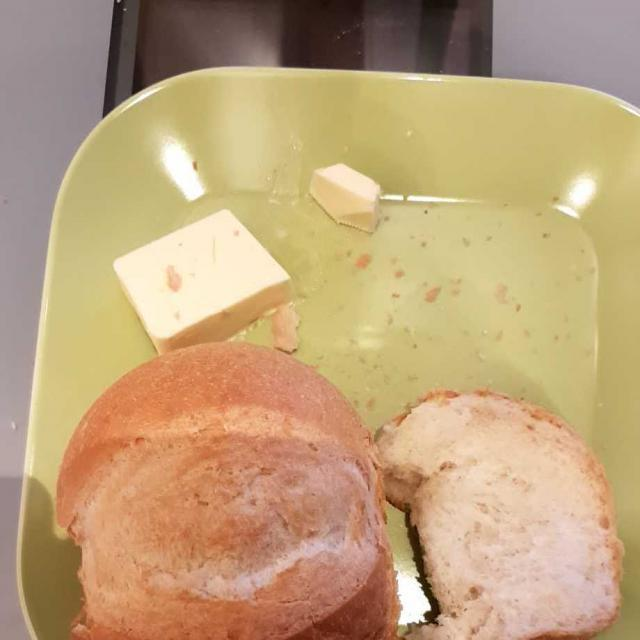bread: (41, 352, 633, 636)
butter: (115, 211, 295, 351)
